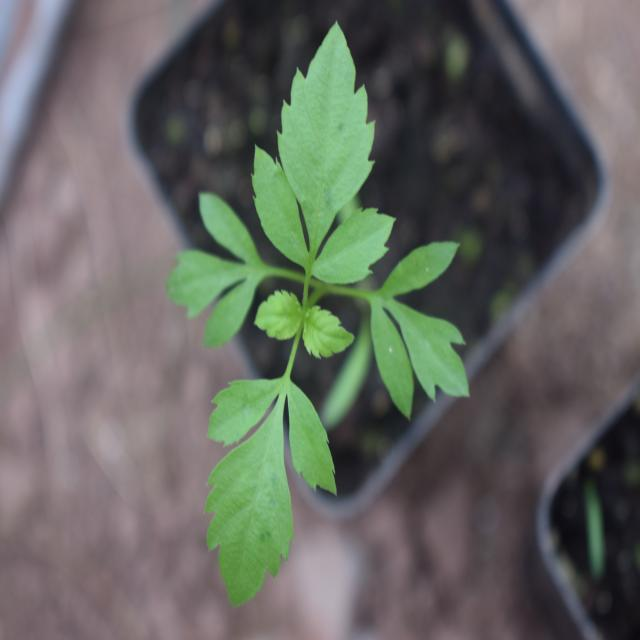Bidens pilosa: (160, 22, 470, 606)
